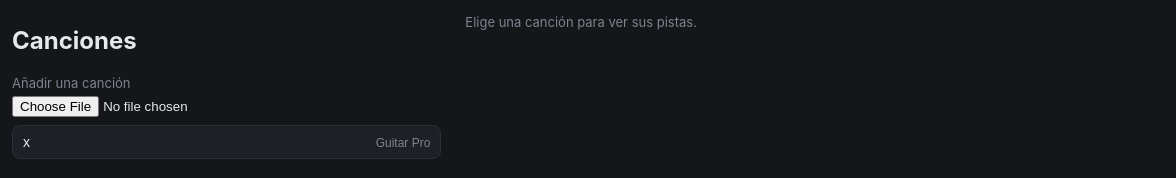
Canciones › una pista que no se puede usar se muestra con su motivo y no se puede elegir
Click the text "x" at (26, 142), box [23, 134, 30, 150]
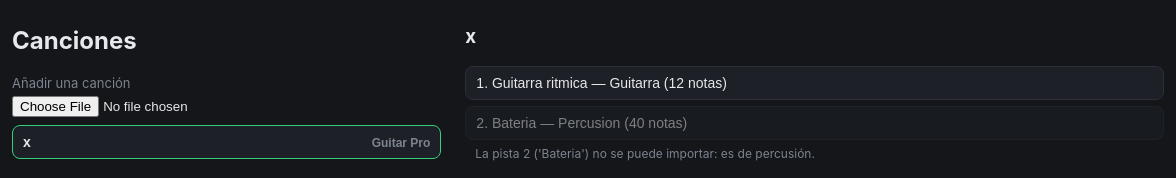
expect the text "es de percusión" is shown: met, box [475, 146, 815, 161]
expect the button "2. Bateria — Percusion (40 notas)" is disabled: met, box [465, 106, 1164, 140]
expect the button "1. Guitarra ritmica — Guitarra (12 notas)" is enabled: met, box [465, 66, 1164, 100]
